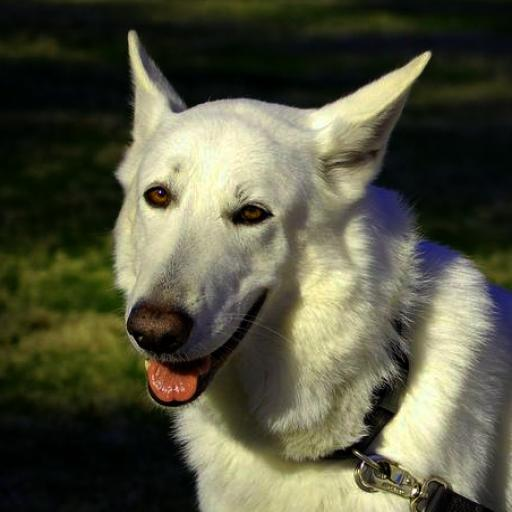dog_face: (109, 29, 432, 405)
